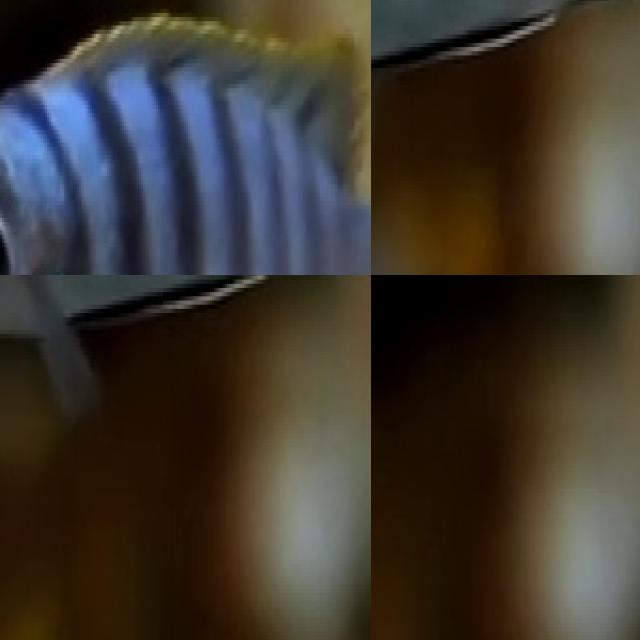fish: (0, 0, 371, 275), (371, 0, 640, 126)
